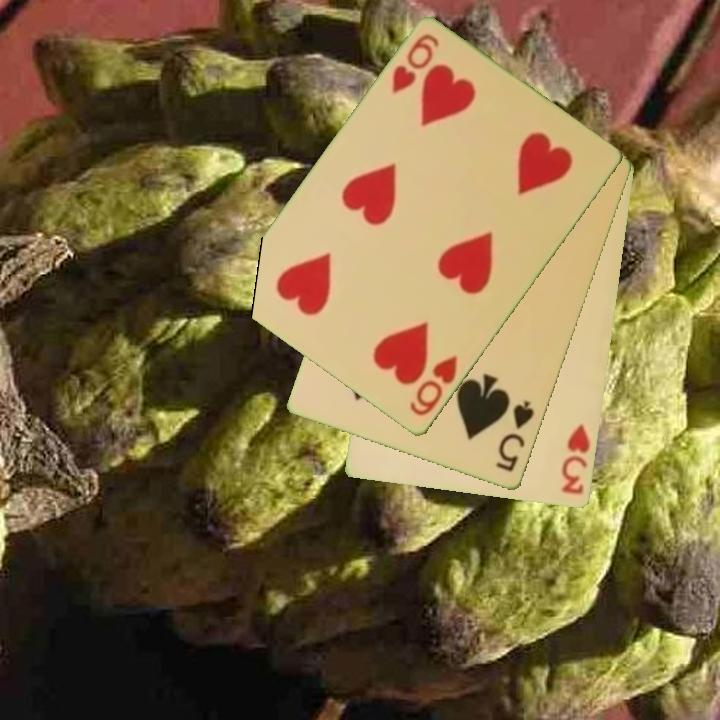3h: (558, 421, 594, 498)
5s: (492, 397, 538, 475)
6h: (406, 352, 461, 420), (388, 30, 443, 98)
